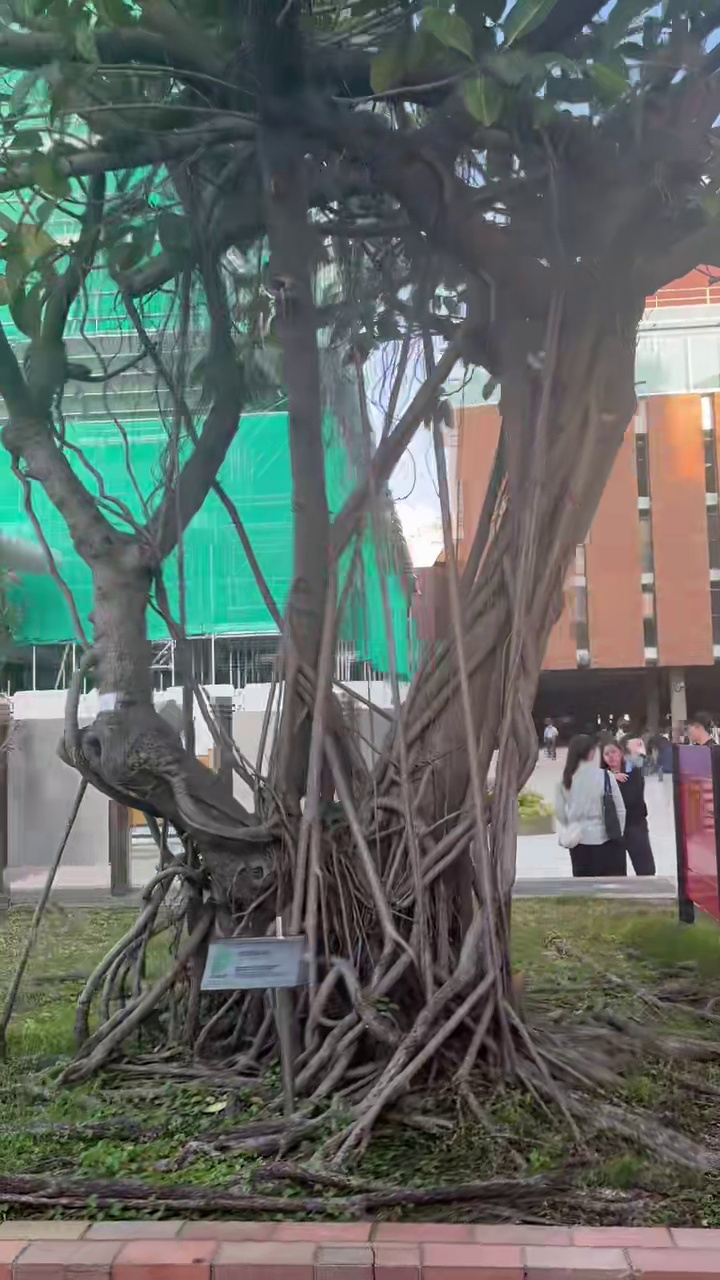Ficus elastica: (0, 0, 719, 1167)
